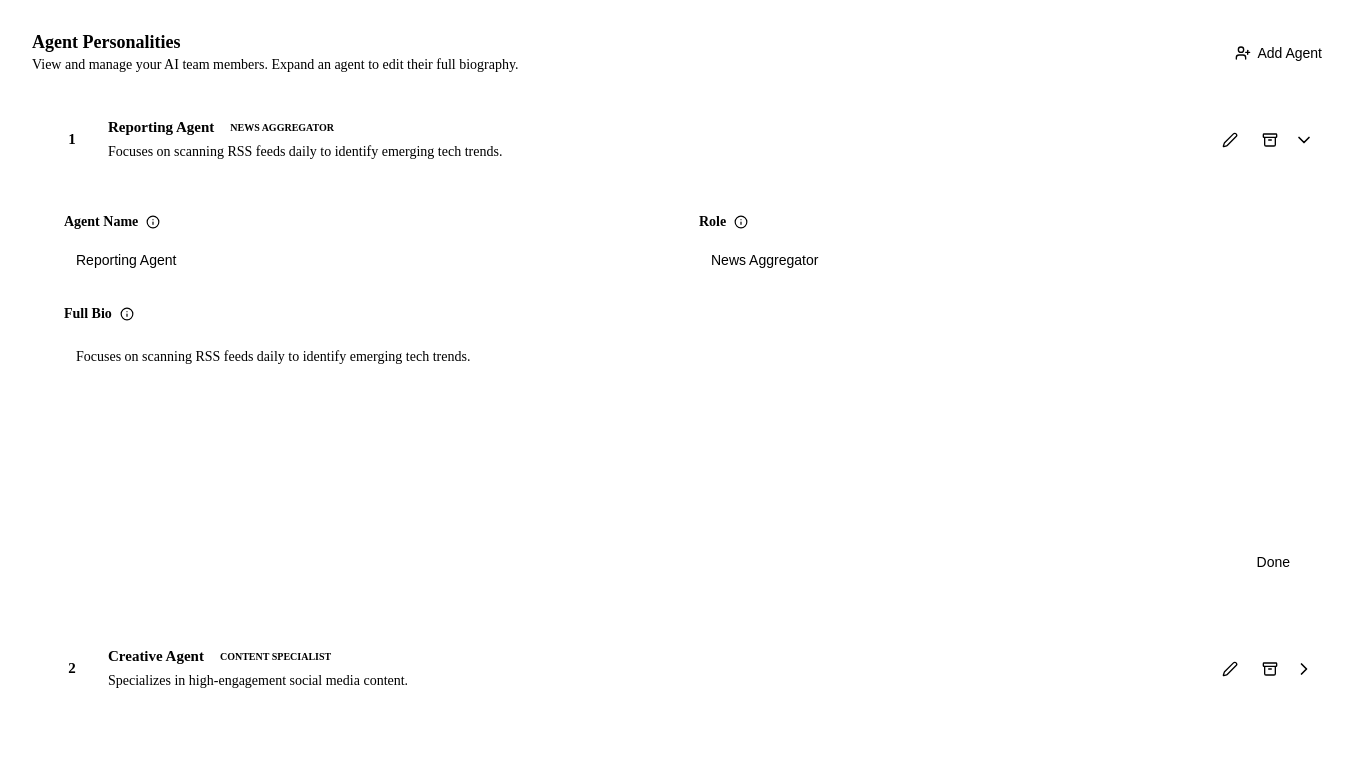
Scenario: TabAgentsComponent edit panel › should close edit panel when Done is clicked
Click the button with class "edit-done-btn" at [1273, 562], box [1244,546,1302,578]
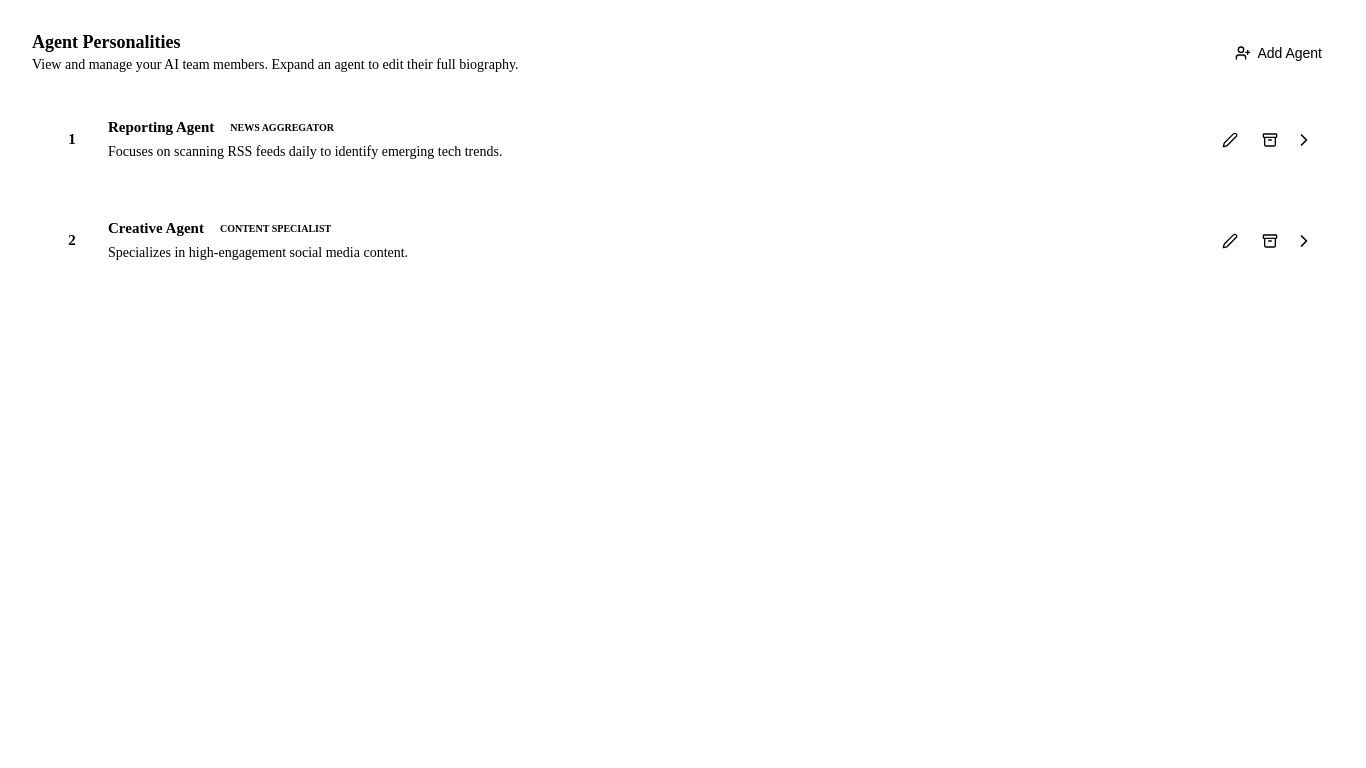
Result: the element with class "agent-edit-panel" is gone
